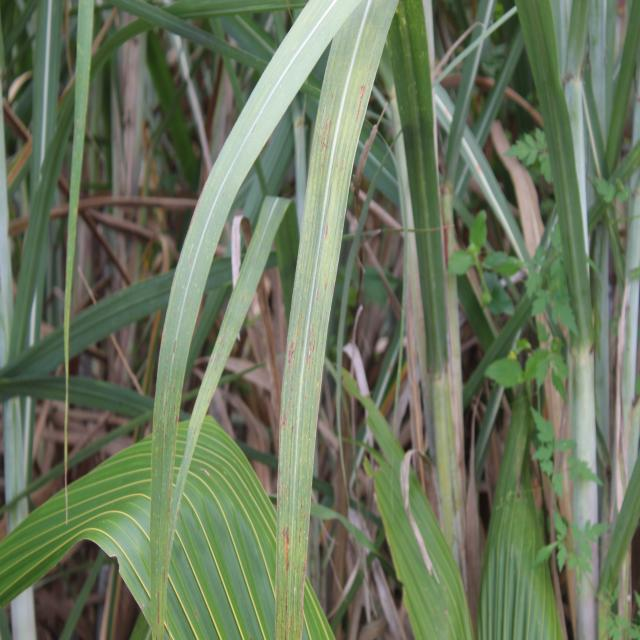Sugarcane: (142, 0, 368, 640), (279, 0, 385, 640), (511, 0, 591, 349), (59, 0, 93, 527)
